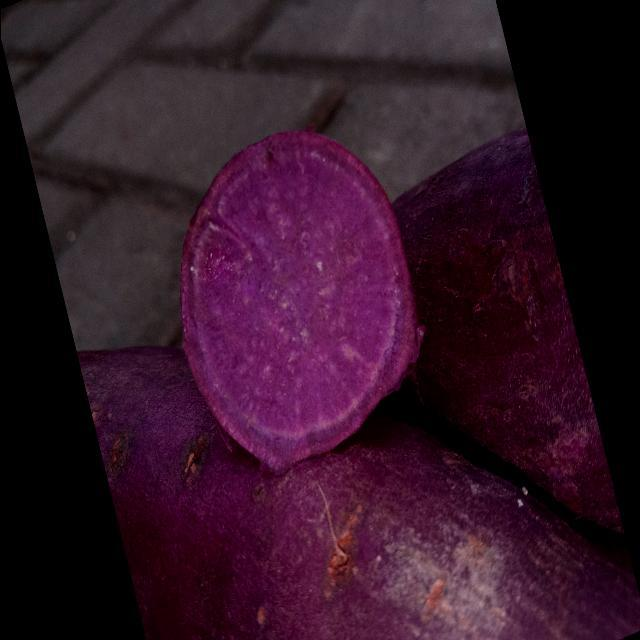Healthy Sweet Potato: (180, 130, 422, 472)
